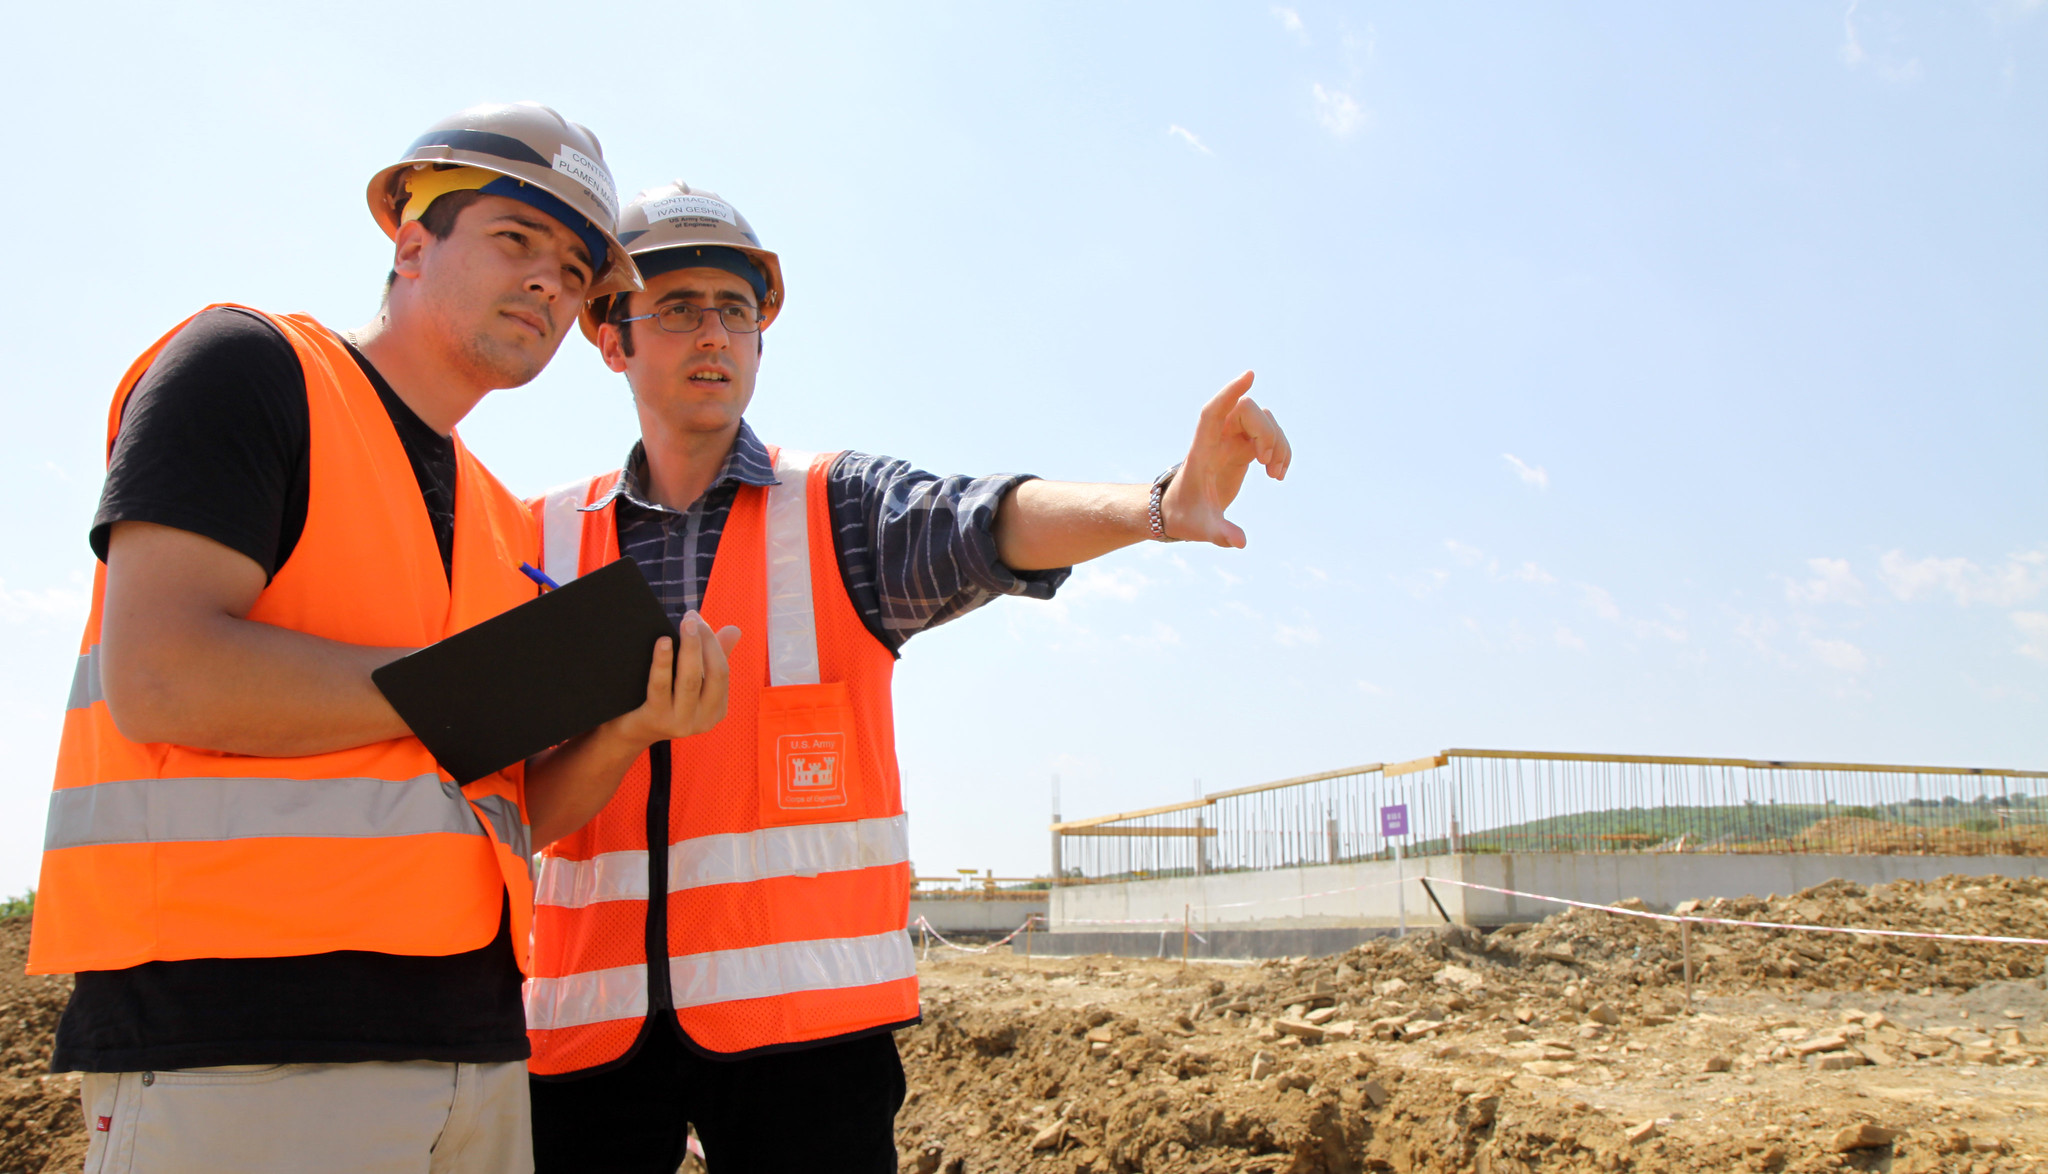Helmet: (333, 93, 646, 432), (572, 174, 840, 484)
Reflective vest: (17, 299, 544, 988), (513, 446, 931, 1081)
